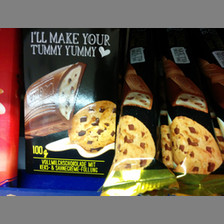chocolate: (23, 29, 125, 178), (163, 38, 222, 175), (118, 43, 167, 194)
